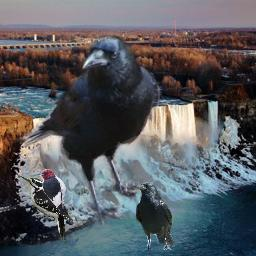Crow: (11, 27, 160, 229), (136, 182, 175, 250)
Woodpecker: (20, 174, 73, 243), (36, 169, 68, 215)
